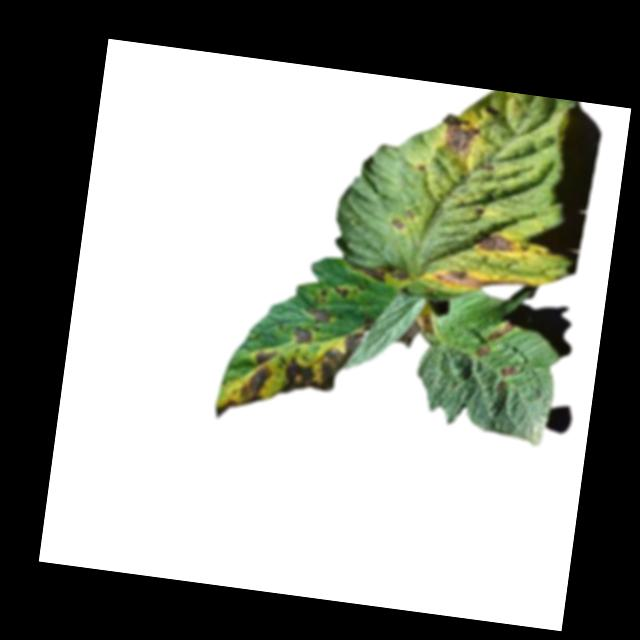Early_blight: (212, 307, 379, 441), (432, 266, 531, 299), (440, 111, 483, 162), (394, 309, 432, 355), (358, 260, 408, 289), (474, 229, 526, 255), (488, 320, 517, 345), (291, 324, 315, 347), (307, 305, 334, 325), (389, 214, 408, 233), (500, 363, 519, 380), (474, 344, 491, 361), (313, 287, 328, 304), (334, 285, 349, 300)
